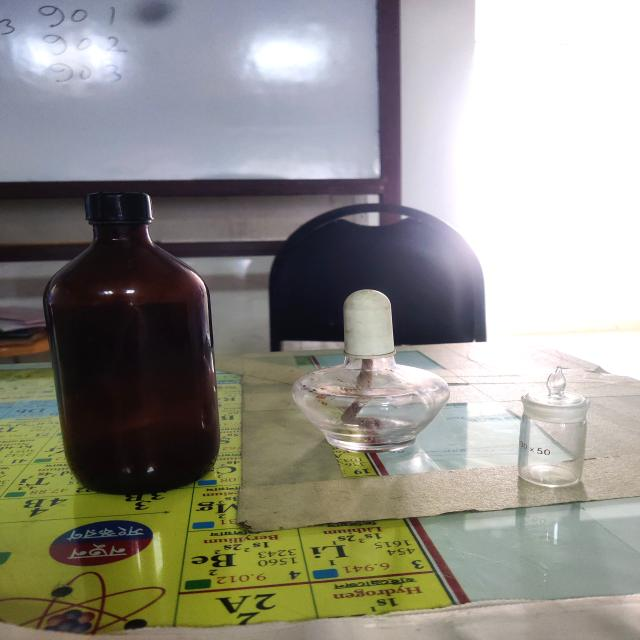Nessler_Reagent_Bottle: (19, 168, 252, 533)
Spirit_Lamp: (273, 275, 474, 475)
Weighing_Bottle: (502, 352, 612, 515)
